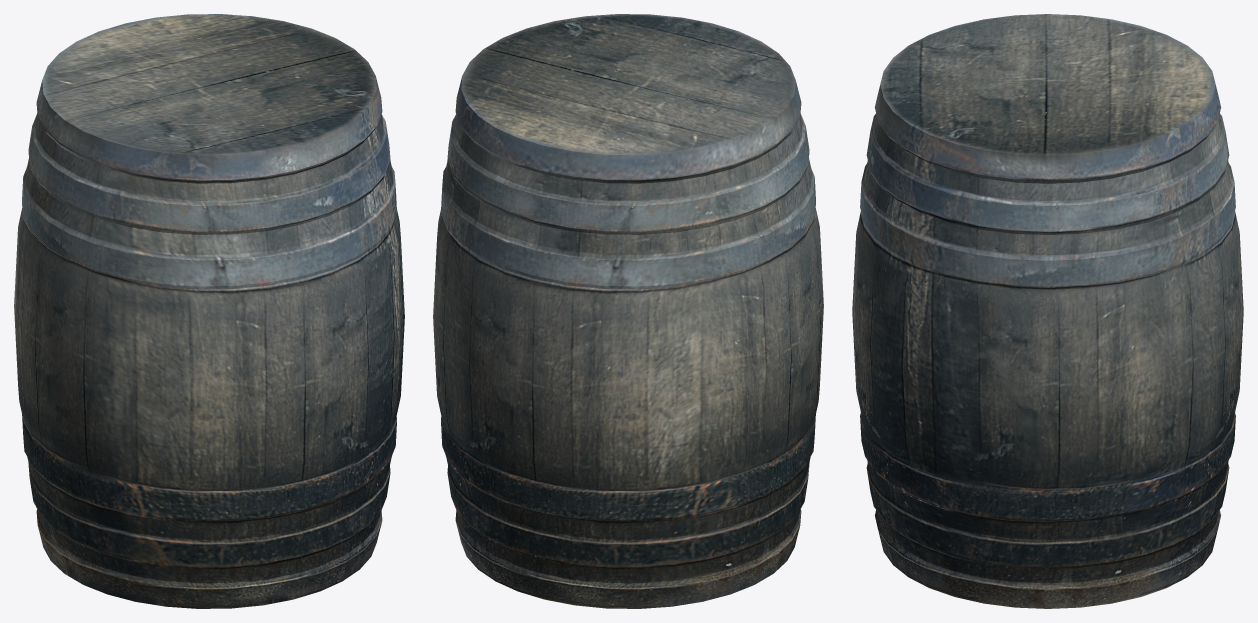
File: barrel.obj
3 renders of one model, left to right at view 1: azimuth 30°, elevation 25°; view 2: azimuth 150°, elevation 25°; view 3: azimuth 270°, elevation 25°, orthographic.
Visible parts, largest first — view 1: Mesh_Mesh_Cylinder.001; view 2: Mesh_Mesh_Cylinder.001; view 3: Mesh_Mesh_Cylinder.001.
Boxes of the visible parts, x1,y1,x2,y2 form: Mesh_Mesh_Cylinder.001: (14,14,404,608); Mesh_Mesh_Cylinder.001: (433,14,823,608); Mesh_Mesh_Cylinder.001: (852,14,1243,608).
Size of the model in its own units: 9.44 by 12.06 by 9.44.
1 material, 1 textured.
